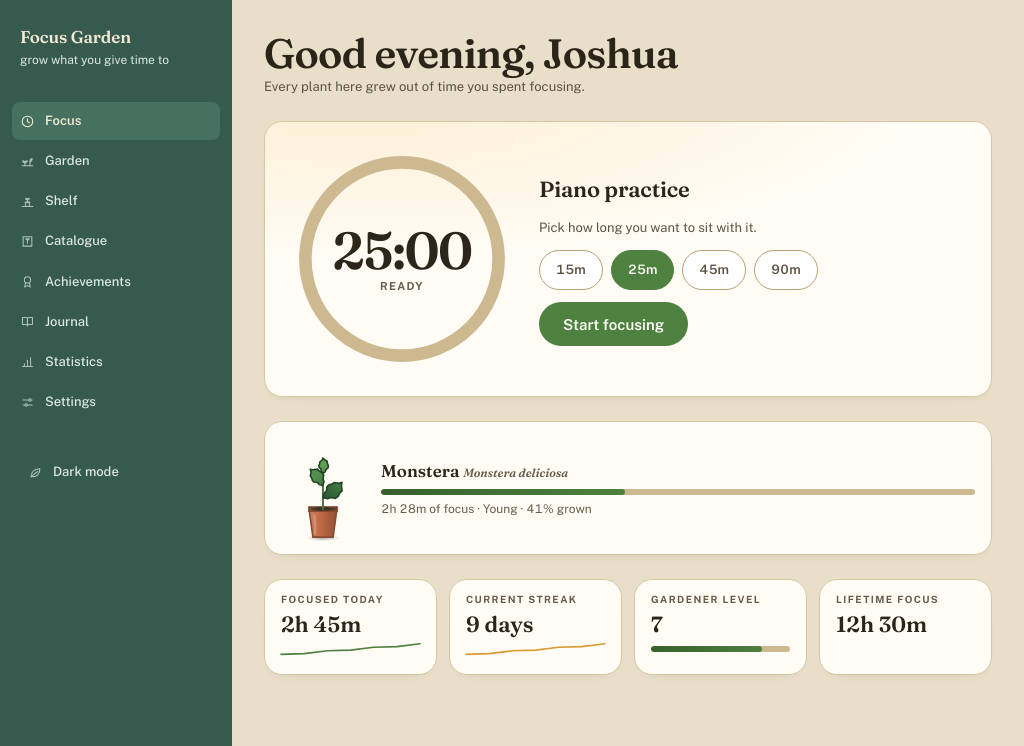
Scenario: the focus screen reads the player's settings › counts the cycle against the configured length, not a fixed four
The image size is (1024, 746).
Expected: the button "Start focusing" is shown, [539, 302, 688, 346]
Click the button "Settings": (116, 402) [12, 383, 220, 421]
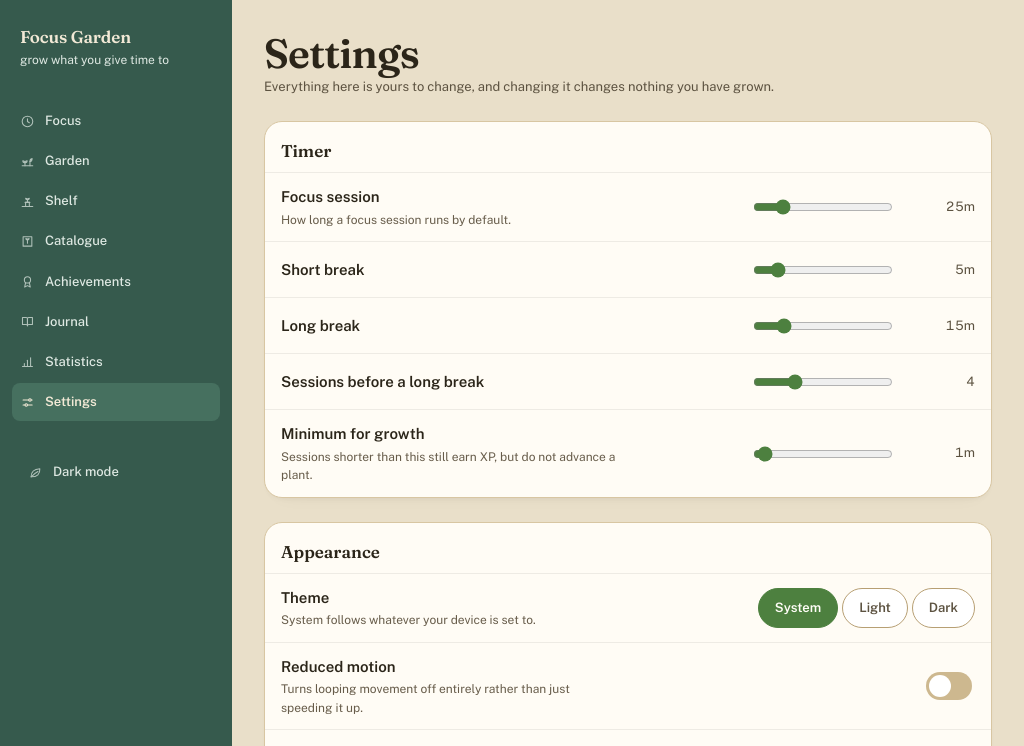
Set the slider named "Sessions before a long break" to "6": (817, 382) [753, 374, 893, 390]
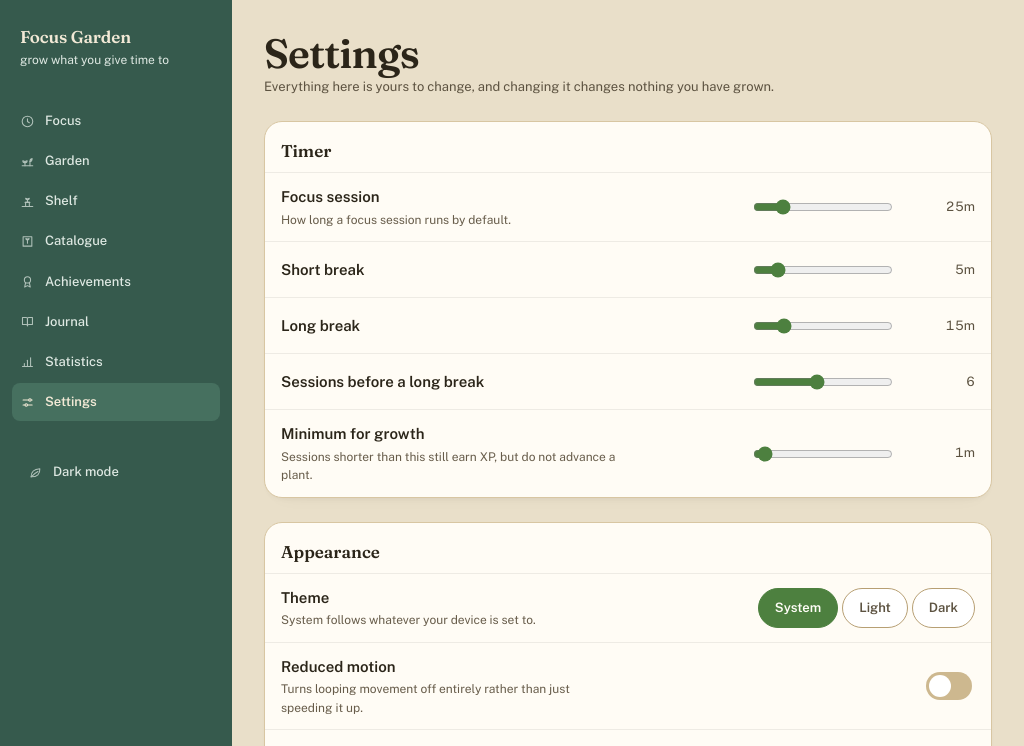
Click the button "Focus": (116, 121) [12, 102, 220, 140]
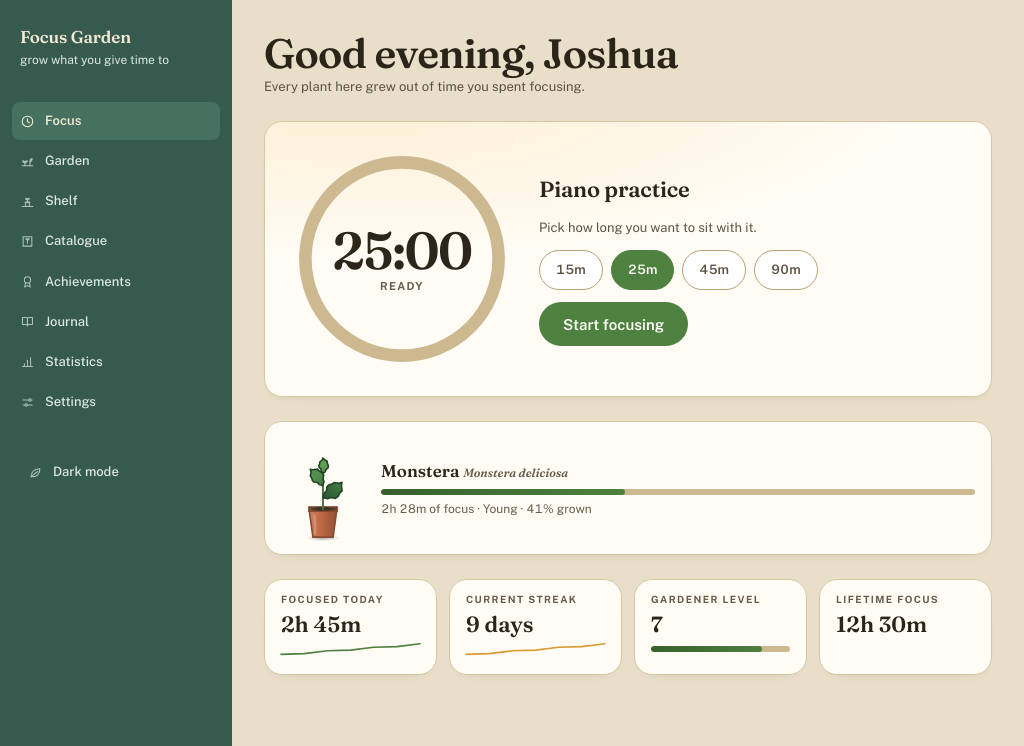
Click the button "Start focusing": (614, 324) [539, 302, 688, 346]
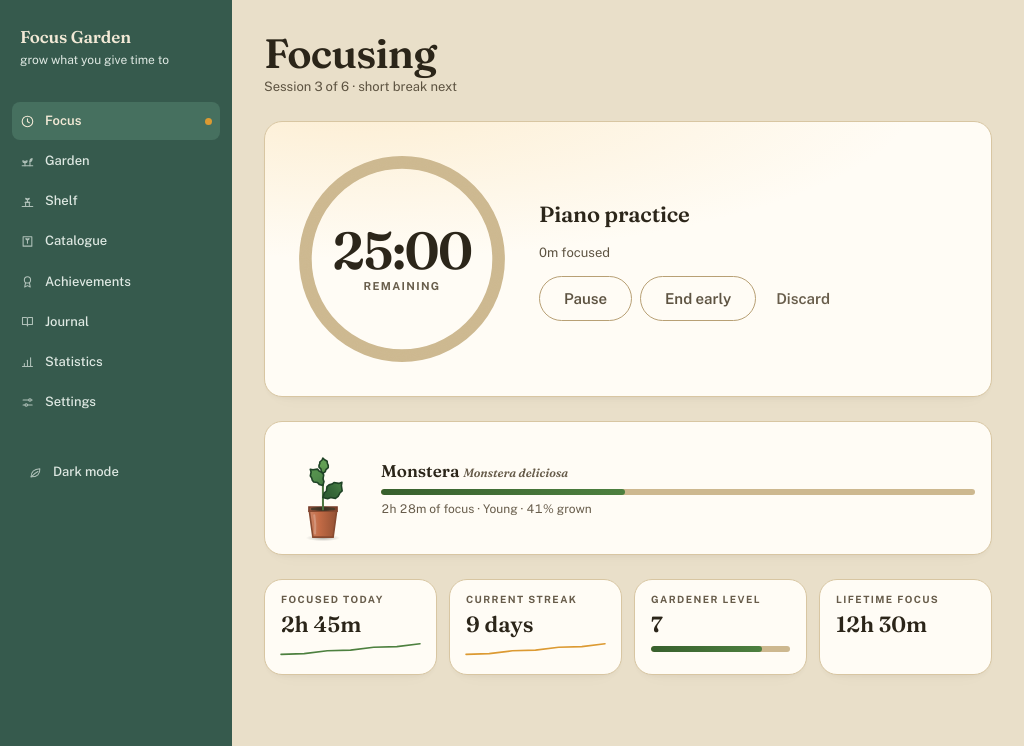
Now the text "Session 3 of 6 · short break next" is shown, box [264, 79, 457, 94]
